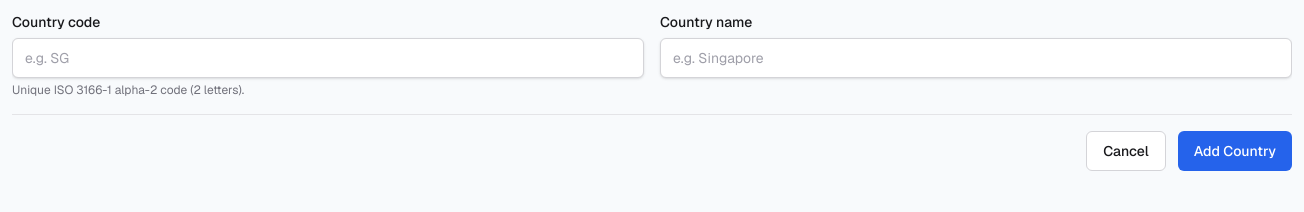
Test: CountryForm › rejects a country code that is not exactly 2 letters
The image size is (1304, 212).
Type "S" into the field labelled "Country code". click: (328,58)
box: [12, 38, 644, 78]
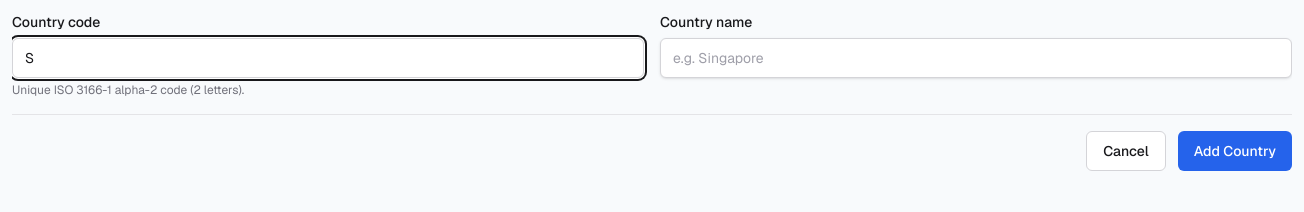
Type "Singapore" into the field labelled "Country name". click: (976,58)
box: [660, 38, 1292, 78]
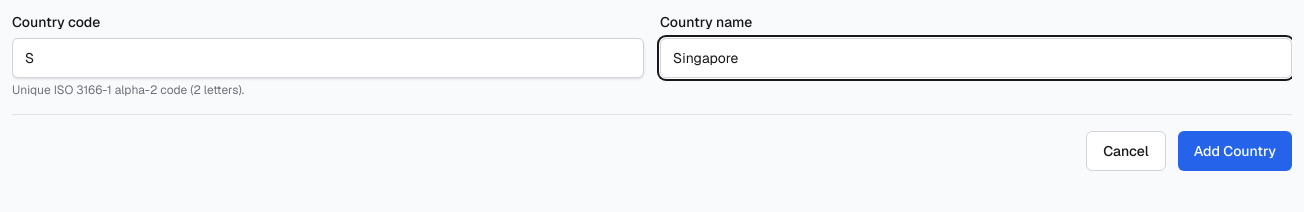
Click the button "Add Country". click: (1235,151)
box: [1178, 131, 1292, 171]
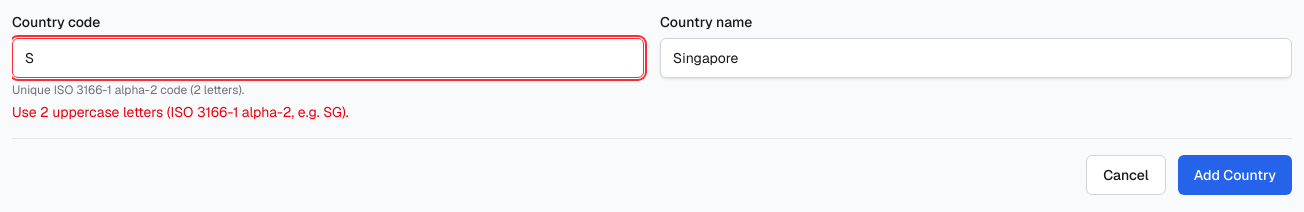
Expected: the text "Use 2 uppercase letters (ISO 3166-1 alpha-2, e.g. SG)." is shown, [12, 103, 349, 121]
